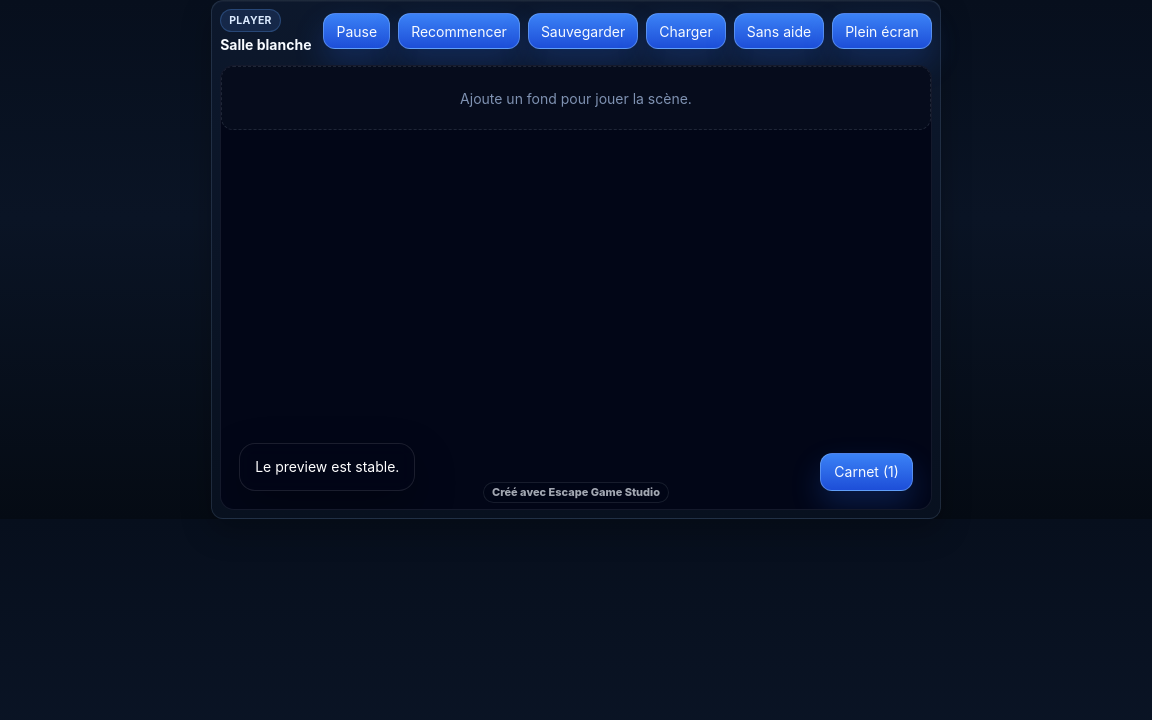
Test: PlaytestWorkspace render regressions › rend le carnet aventure avec inventaire et variables
Step 1. Click the button "Carnet (1)" → (867, 472), box [820,453,913,491]
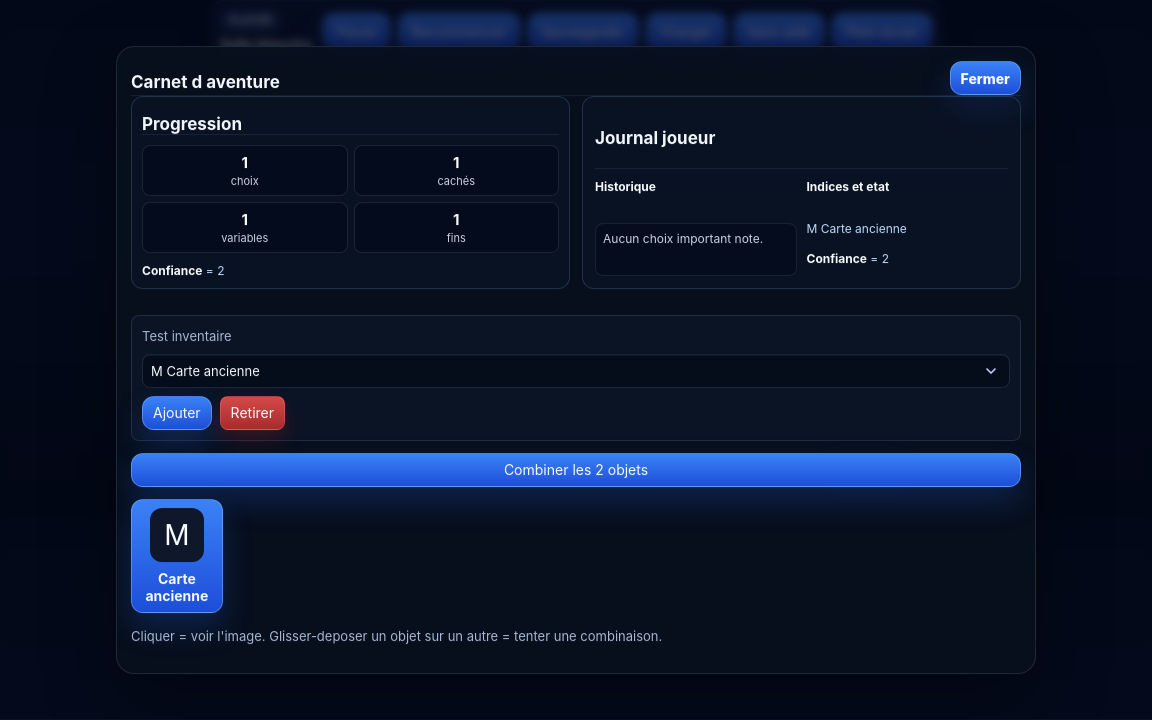
Result: the heading "Progression" is shown at [142,115,242,134]
Result: the text "Carte ancienne" is shown at [140,570,214,604]
Result: the text "Confiance" below "variables" is shown at [142,263,202,278]
